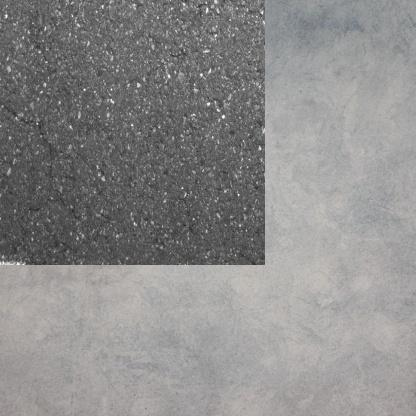Cracks: (0, 60, 63, 239)
